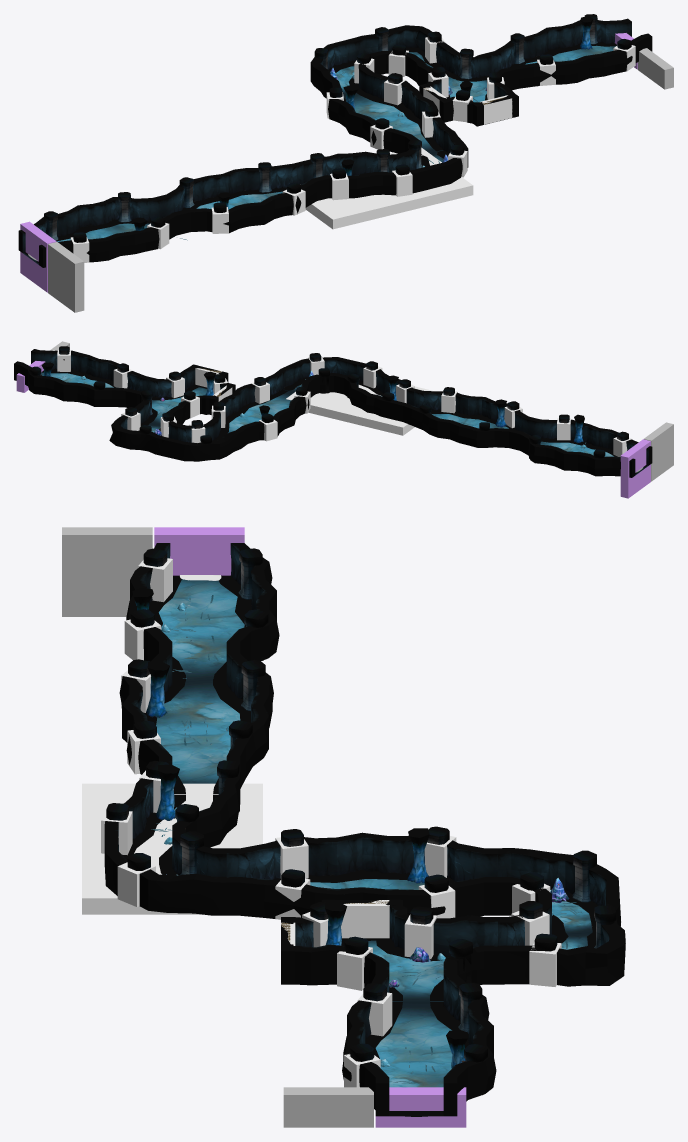
3 renders of one model, top to bottom at view 1: azimuth 30°, elevation 25°; view 2: azimuth 150°, elevation 25°; view 3: azimuth 270°, elevation 25°, orthographic. The views are drawn at different scales.
Visible parts, largest first — view 1: Dan1 (×9), Cube, AsyncLoad (×2), Dan2 (×4), AreaChanger_30101_30001, DoorWay_NavMask (1), Dan1_shadow, Dan002_02; view 2: Dan1 (×9), Cube, Dan2 (×4), Dan1_shadow (×4), AreaChanger_30101_30001, AsyncLoad, Dan002_02, Cube (26), Cube (13), AreaChanger_30101_30007, Cube (10), Cube (24) (+4 smaller); view 3: Dan1 (×9), Dan2 (×5), AsyncLoad (×2), Cube, Dan1_shadow (×3), AreaChanger_30101_30001, AreaChanger_30101_30007, Dan002_02, Dungeon_011_Object_010 (×2), DoorWay_NavMask (1), Cube (23), Cube (21) (+4 smaller).
Part boxes in pixels (bbox=[...]): Dan1 (×9): bbox=[18, 18, 652, 267]; Cube: bbox=[305, 147, 473, 229]; AsyncLoad (×2): bbox=[48, 48, 673, 312]; Dan2 (×4): bbox=[23, 45, 615, 264]; AreaChanger_30101_30001: bbox=[20, 221, 56, 292]; DoorWay_NavMask (1): bbox=[479, 95, 512, 124]; Dan1_shadow: bbox=[343, 90, 442, 154]; Dan002_02: bbox=[448, 76, 486, 102]; Dan1 (×9): bbox=[14, 349, 652, 477]; Cube: bbox=[286, 385, 433, 435]; Dan2 (×4): bbox=[41, 372, 648, 475]; Dan1_shadow (×4): bbox=[41, 369, 647, 473]; AreaChanger_30101_30001: bbox=[620, 439, 650, 498]; AsyncLoad: bbox=[644, 422, 673, 481]; Dan002_02: bbox=[150, 387, 207, 425]; Cube (26): bbox=[251, 382, 269, 403]; Cube (13): bbox=[441, 391, 457, 413]; AreaChanger_30101_30007: bbox=[16, 361, 45, 392]; Cube (10): bbox=[557, 418, 570, 440]; Cube (24): bbox=[259, 419, 277, 441]; Dan1 (×9): bbox=[104, 543, 625, 1116]; Dan2 (×5): bbox=[156, 579, 592, 1087]; AsyncLoad (×2): bbox=[62, 527, 373, 1127]; Cube: bbox=[82, 783, 262, 914]; Dan1_shadow (×3): bbox=[144, 575, 468, 1116]; AreaChanger_30101_30001: bbox=[154, 527, 244, 575]; AreaChanger_30101_30007: bbox=[375, 1087, 466, 1127]; Dan002_02: bbox=[368, 940, 443, 1001]; Dungeon_011_Object_010 (×2): bbox=[146, 661, 179, 820]; DoorWay_NavMask (1): bbox=[341, 900, 389, 938]; Cube (23): bbox=[529, 942, 561, 986]; Cube (21): bbox=[337, 947, 372, 990].
Size of what is drawn, in the model's own units: 72.66 by 5.44 by 31.18.
